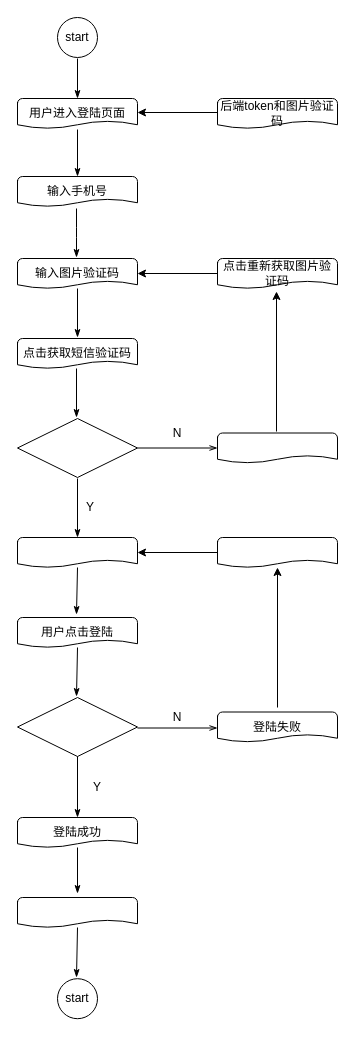
The diagram is 355 pixels wide and 1037 high, and some of its shapes have lost their labels. Here are the shapes that lost their labels. From the top down, the centre of each, then its label:
At (77,448): "后端校验图片验证码状态".
At (277,447): "图片验证码错误".
At (77,552): "后端发送短信验证码".
At (277,552): "重新获取短信验证码".
At (77,726): "后端校验短信验证码状态".
At (77,912): "进入首页".
